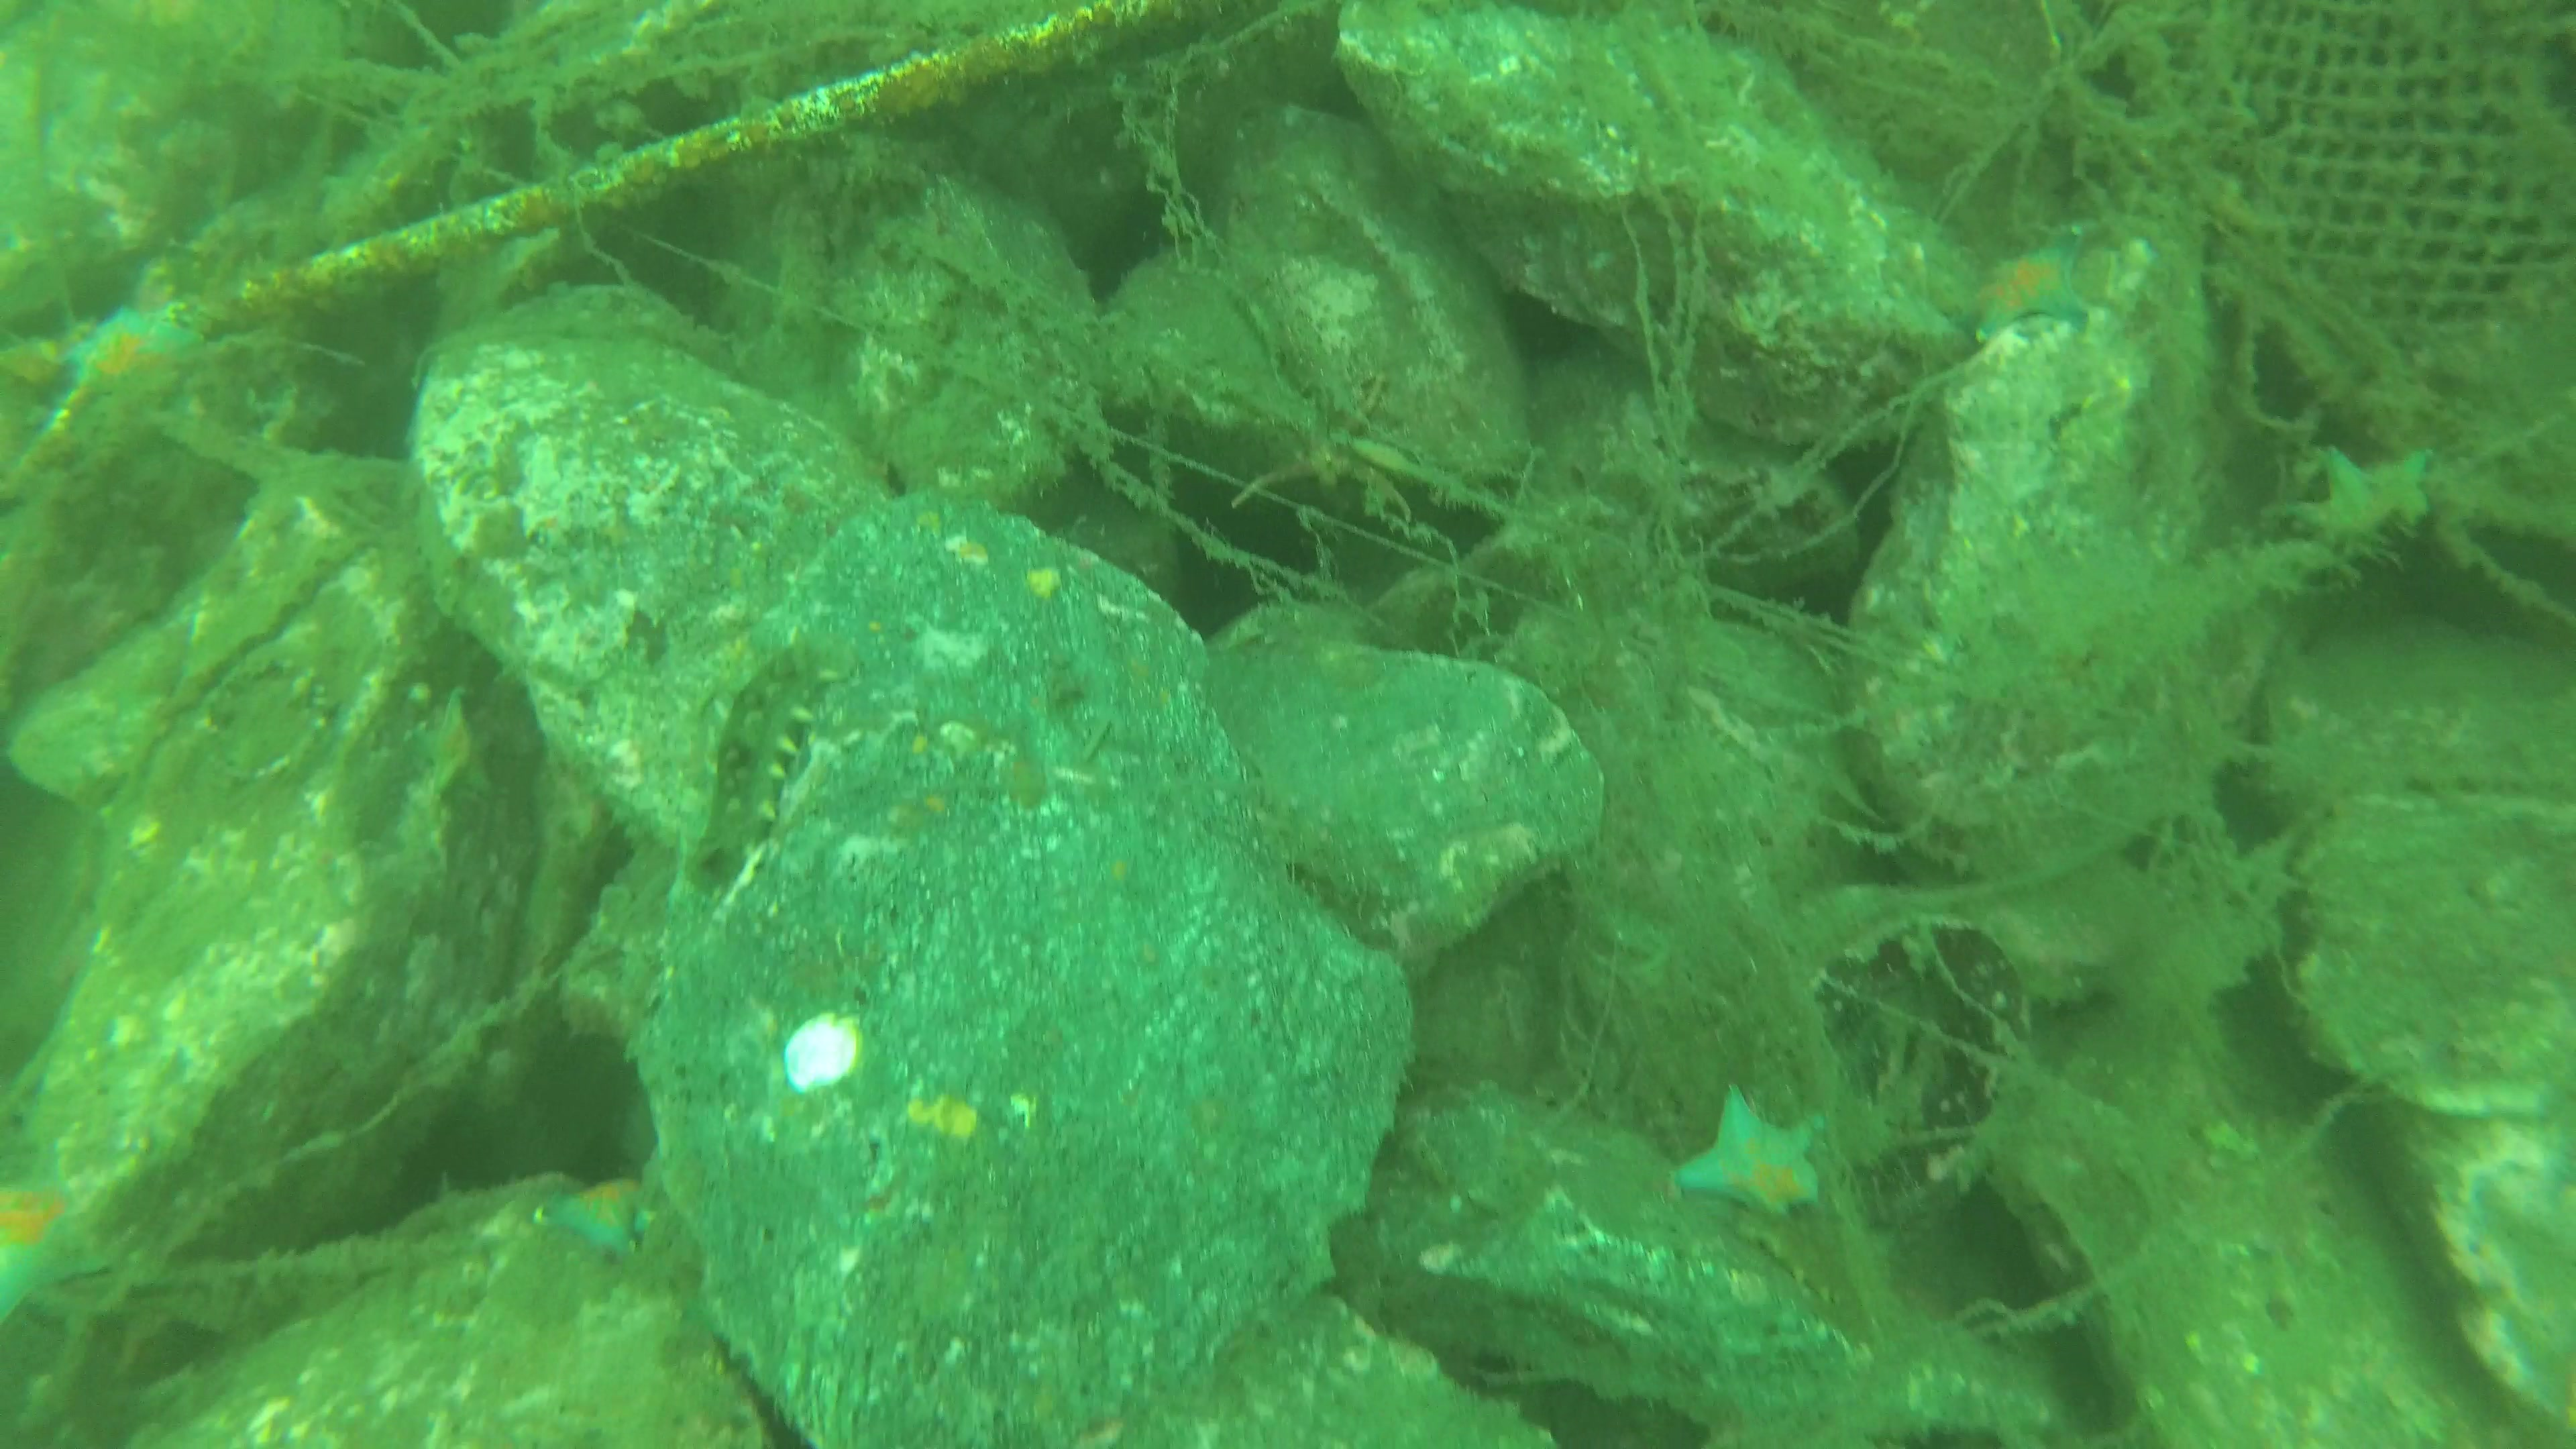holothurian: (683, 632, 860, 892)
starfish: (1231, 372, 1412, 538), (1674, 1085, 1824, 1235), (0, 1169, 111, 1329), (58, 308, 216, 402), (1962, 235, 2089, 341), (2295, 444, 2392, 554), (405, 688, 499, 800), (543, 1177, 660, 1265), (2357, 451, 2434, 529)
